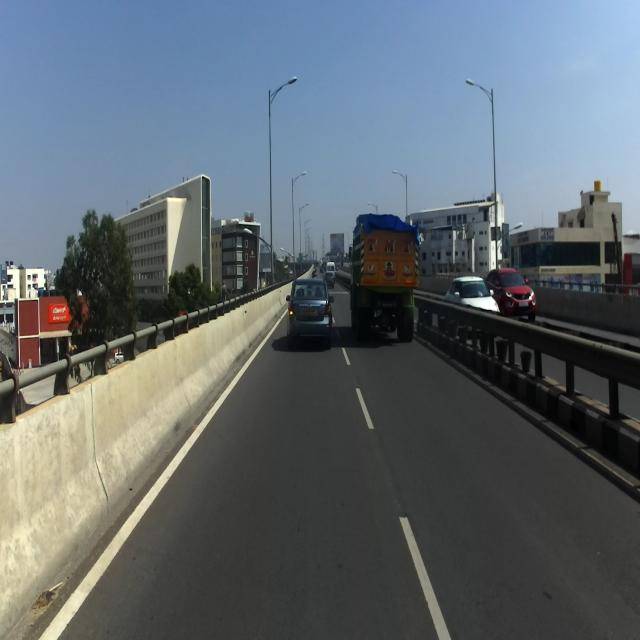car ahead at: (283, 269, 341, 361)
truck ahead at: (349, 202, 426, 343)
